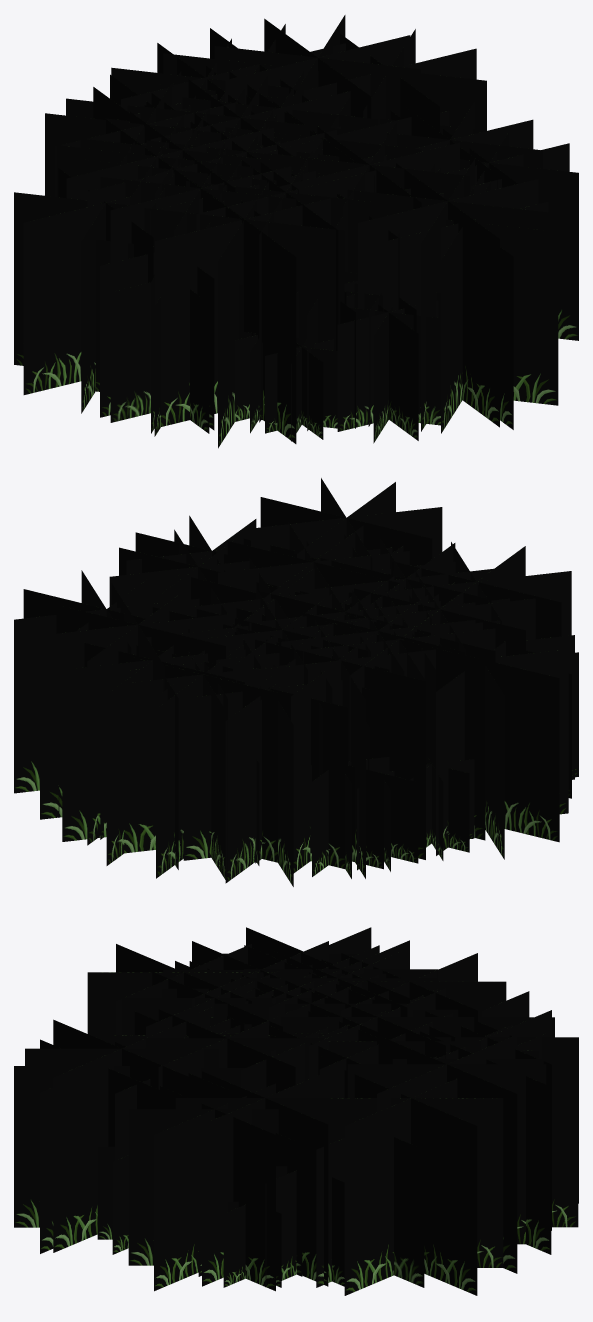
The model's file is SM_Grass_Shorts.fbx.
3 views of the same model, one above another, from view 1: azimuth 30°, elevation 25°; view 2: azimuth 150°, elevation 25°; view 3: azimuth 270°, elevation 25° (orthographic). The views are drawn at different scales.
Parts seen in each view (by area): view 1: SM_Grass_Shorts; view 2: SM_Grass_Shorts; view 3: SM_Grass_Shorts.
Boxes of the visible parts, x1,y1,x2,y2 form: SM_Grass_Shorts: [14, 15, 578, 448]; SM_Grass_Shorts: [14, 478, 578, 886]; SM_Grass_Shorts: [14, 927, 578, 1295].
Size of the model in its own units: 130 by 47.43 by 135.
